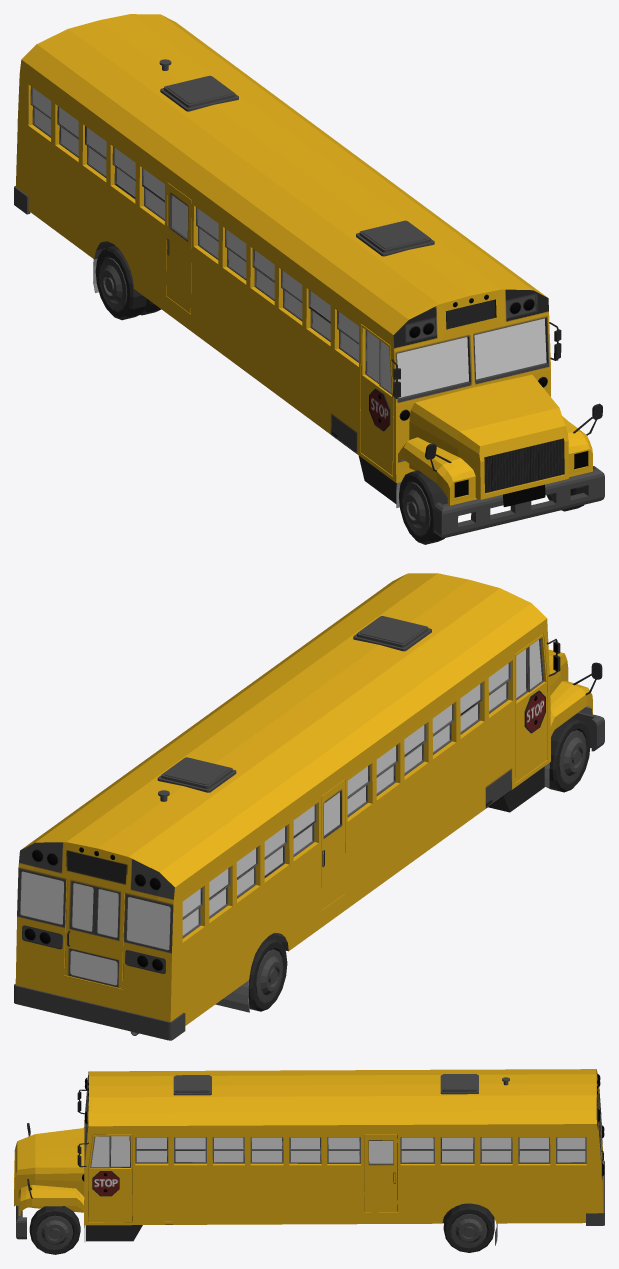
Rendered from school_bus.glb.
3 views of the same model, one above another, from view 1: azimuth 30°, elevation 25°; view 2: azimuth 150°, elevation 25°; view 3: azimuth 270°, elevation 25° (orthographic). The views are drawn at different scales.
Visible parts, largest first — view 1: car body_0; view 2: car body_0; view 3: car body_0.
Part boxes in pixels (x1,y1,x2,y2): car body_0: (14, 14, 604, 544); car body_0: (14, 573, 604, 1040); car body_0: (14, 1069, 604, 1254).
Bounding box in the file's own units: 2.35 × 2.8 × 9.96.
1 material, 1 textured.
